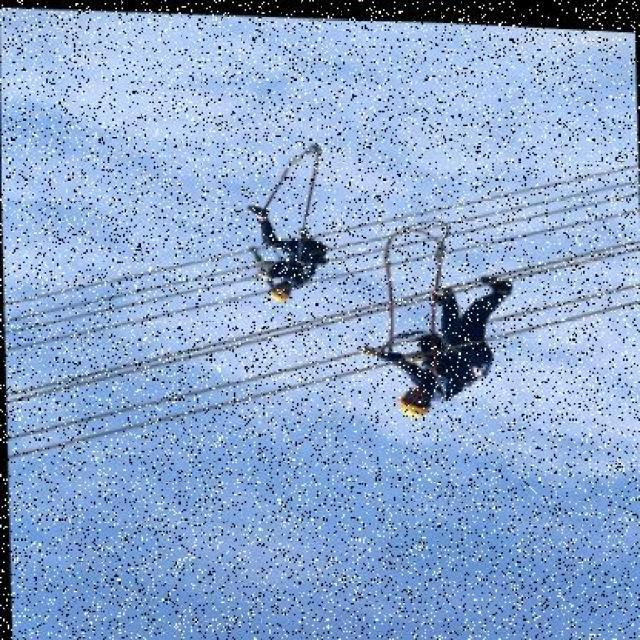helmet: (391, 383, 431, 409)
